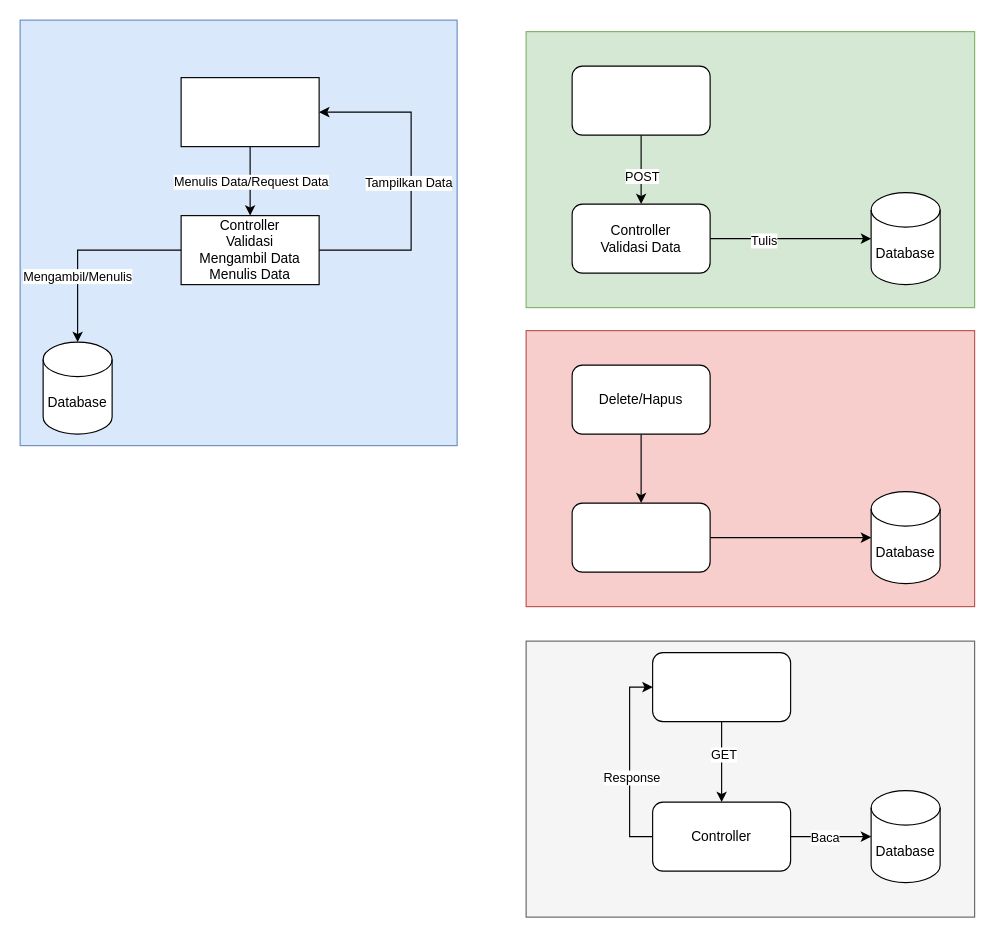
Some shapes in this 995 by 937 pixel diagram are drawn without their labels. The centre of each missing label's shape, as x and y in pixels:
"Controller Pastikan Data Ada" belongs at (x=640, y=537).
"Create/Buat" belongs at (x=640, y=100).
"Edit" belongs at (x=249, y=111).
"Read/Membaca" belongs at (x=721, y=686).
